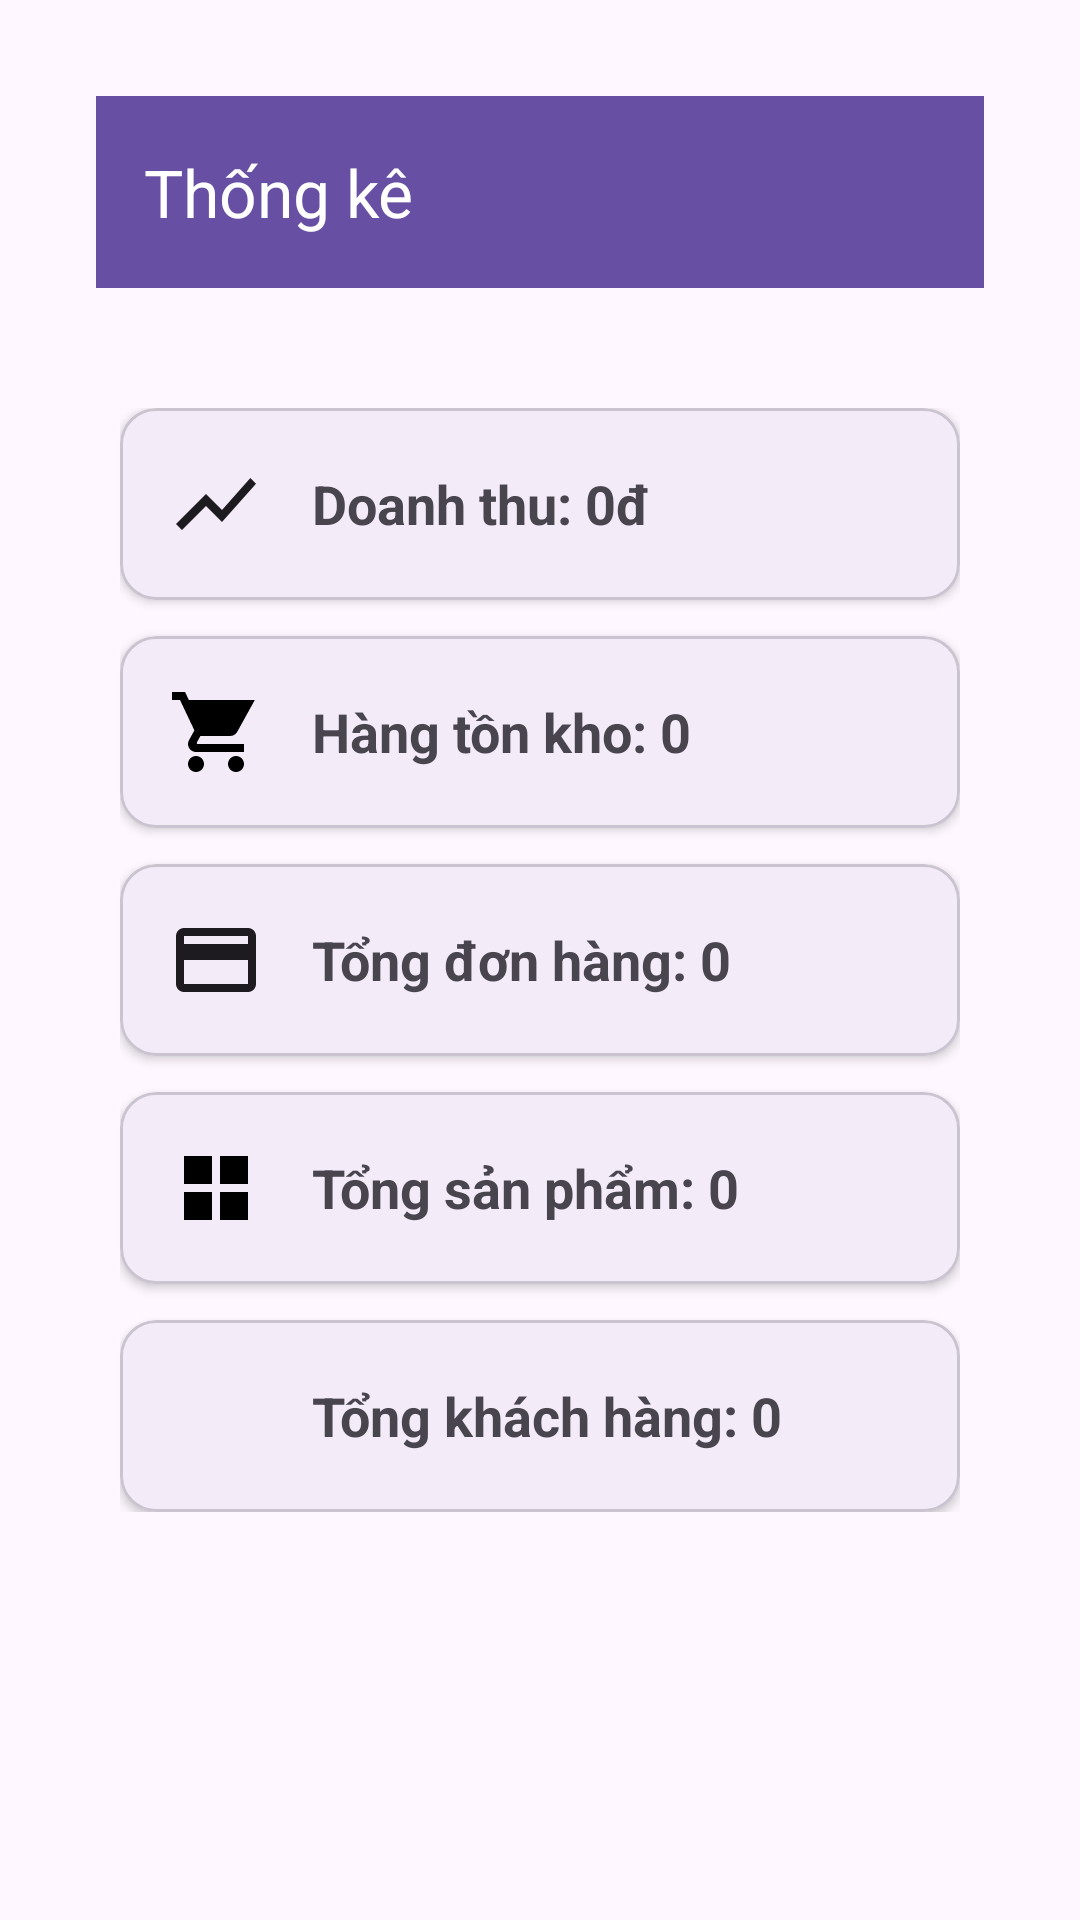

Screen size 1080 x 1920. Icon name, then its center in pixels as [x,y]:
category: [216,1188]
chart: [216,504]
payment: [216,960]
shopping cart: [213,732]
